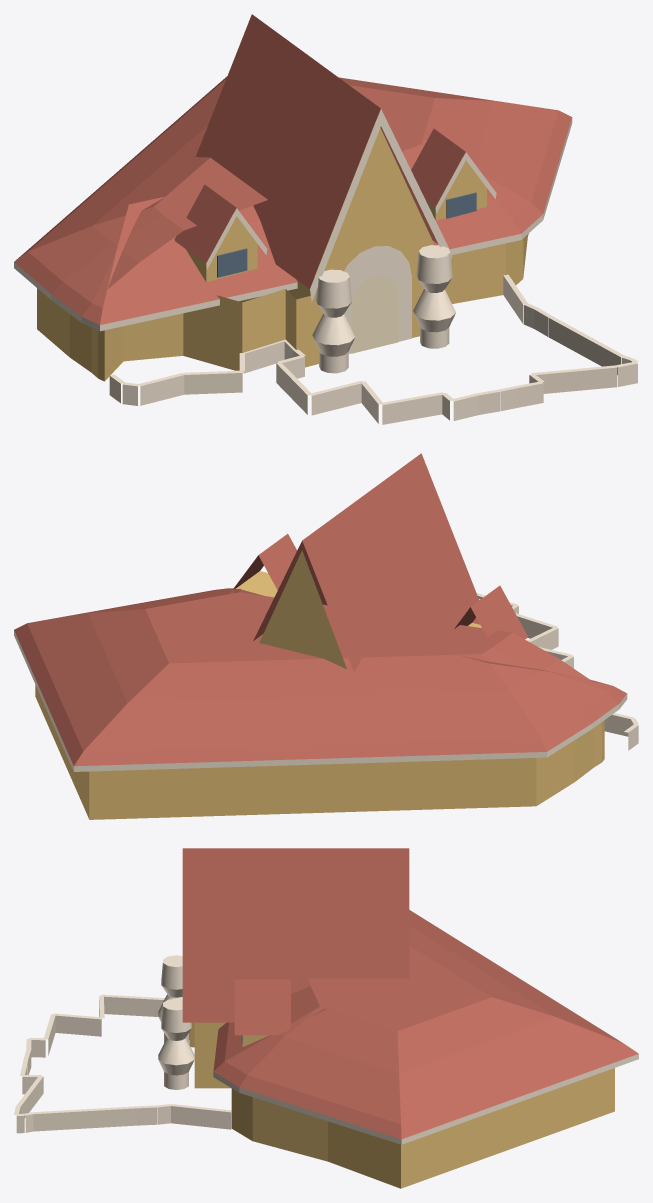
The model's file is dlr-toontown-mickeys-house.glb.
3 views of the same model, one above another, from view 1: azimuth 30°, elevation 25°; view 2: azimuth 150°, elevation 25°; view 3: azimuth 270°, elevation 25° (orthographic). The views are drawn at different scales.
Parts seen in each view (by area): view 1: Mickey's House; view 2: Mickey's House; view 3: Mickey's House.
Boxes of the visible parts, x1,y1,x2,y2 form: Mickey's House: (14,14,638,424); Mickey's House: (14,453,638,819); Mickey's House: (14,848,638,1188).
Bounding box in the file's own units: 28.97 × 11.8 × 31.12.
